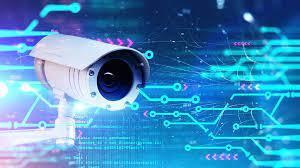tutu: (23, 31, 150, 113)
